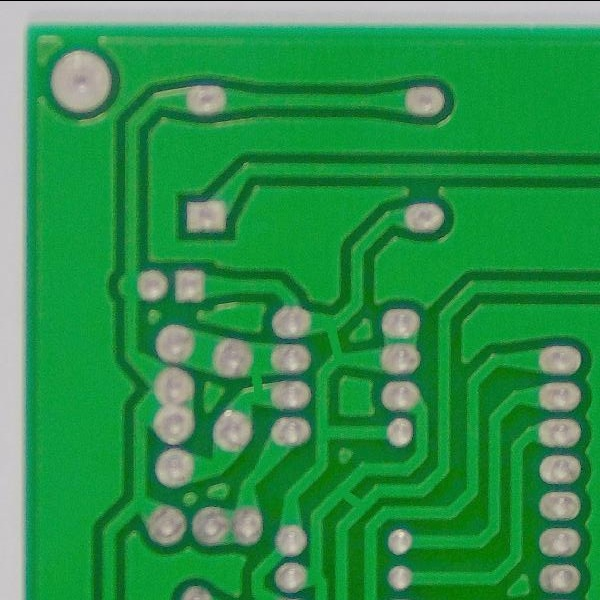short: (318, 308, 359, 374), (235, 358, 277, 411), (330, 475, 372, 524)
